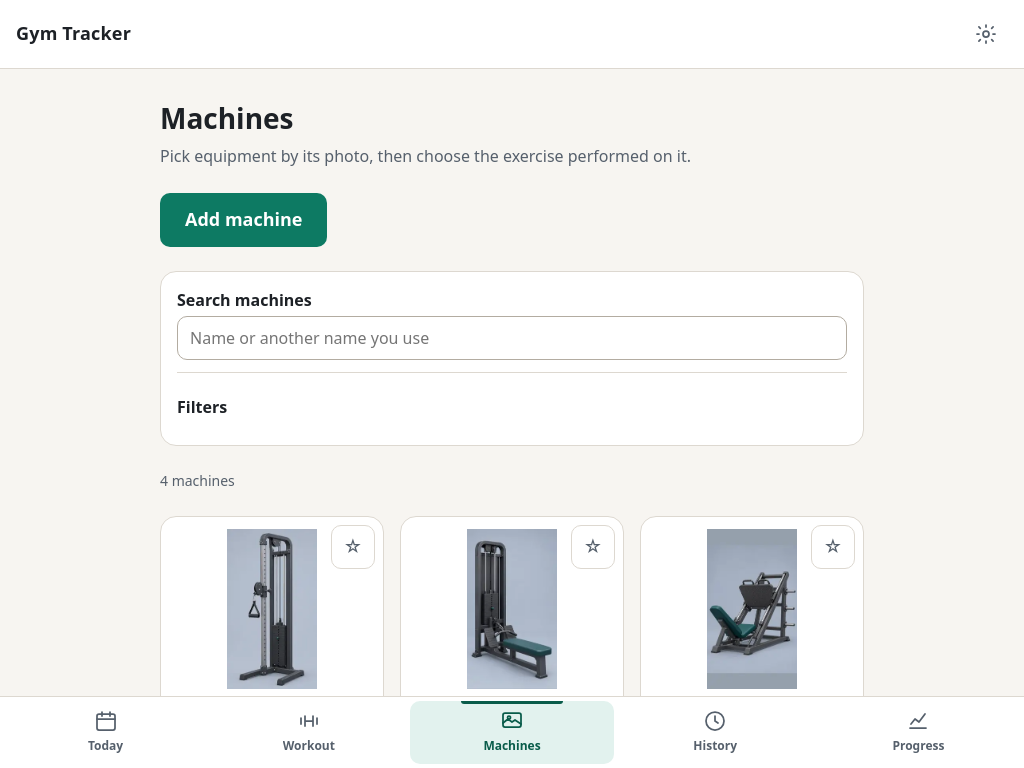
a favourite that cannot be saved › succeeds when the user tries again
The width and height of the screenshot is (1024, 768).
Check: the link with aria-label "Open Low cable row station" is shown, box [413,529,611,717]
Step 1. Click the button named "Add Low cable row station to favourites" → click(593, 547), box [571,525,615,569]
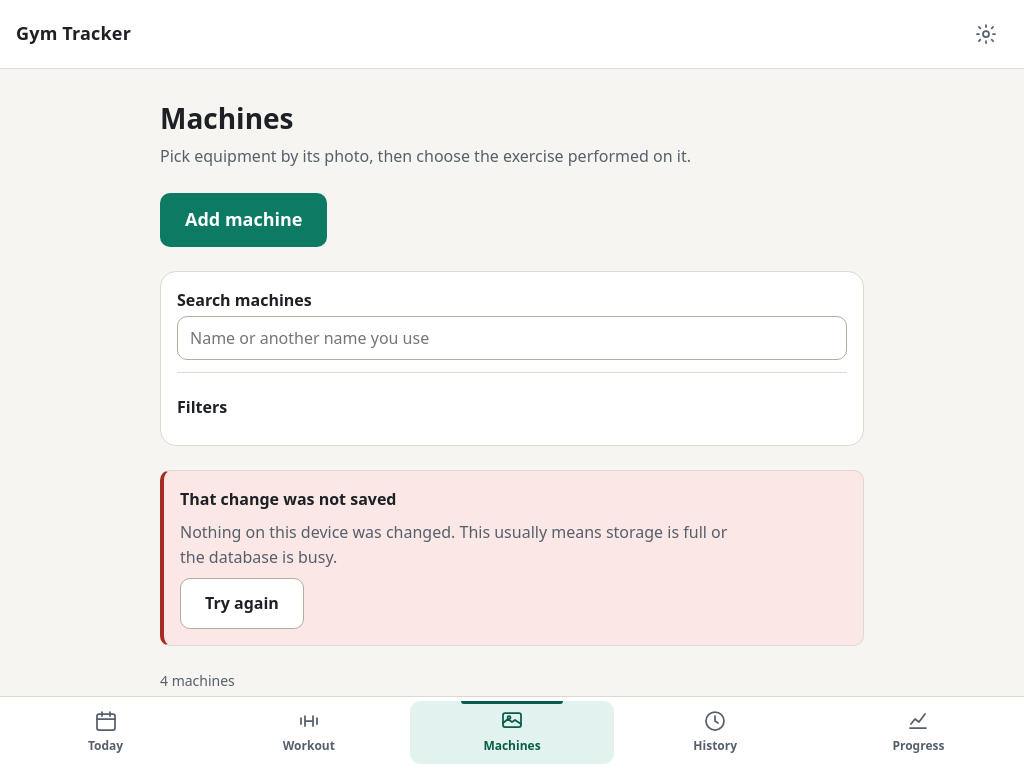
Step 2. Click the button "Try again" → click(242, 603), box [180,578,304,629]
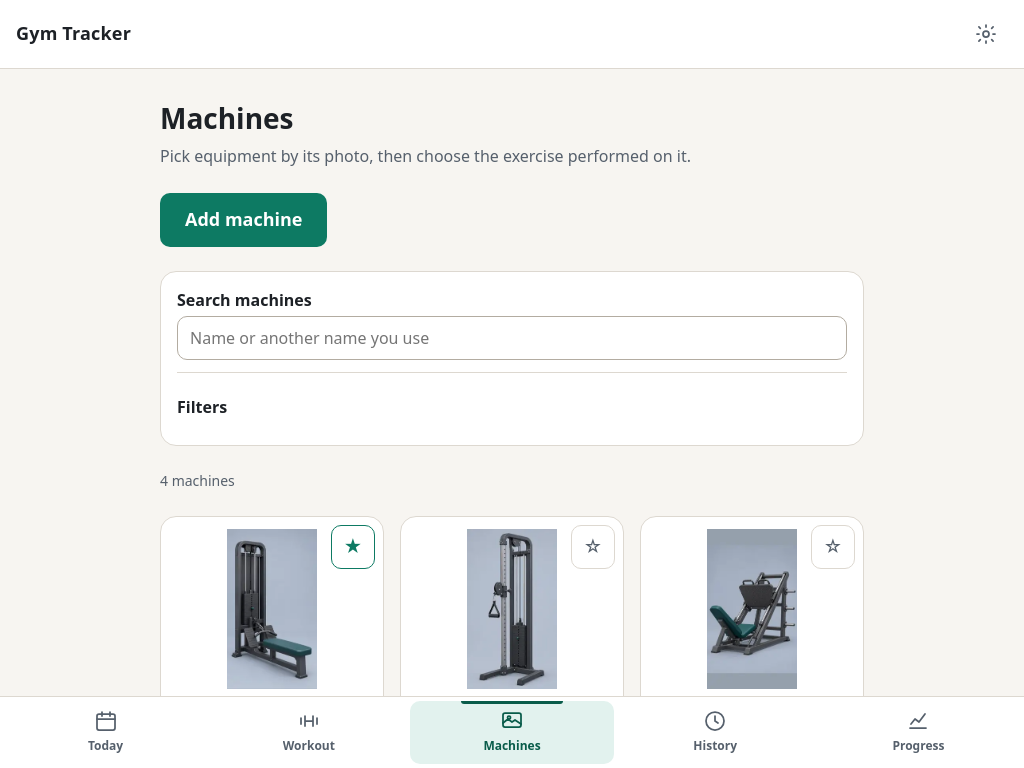
Check: the button named "Remove Low cable row station from favourites" is shown, box [331,525,375,569]
